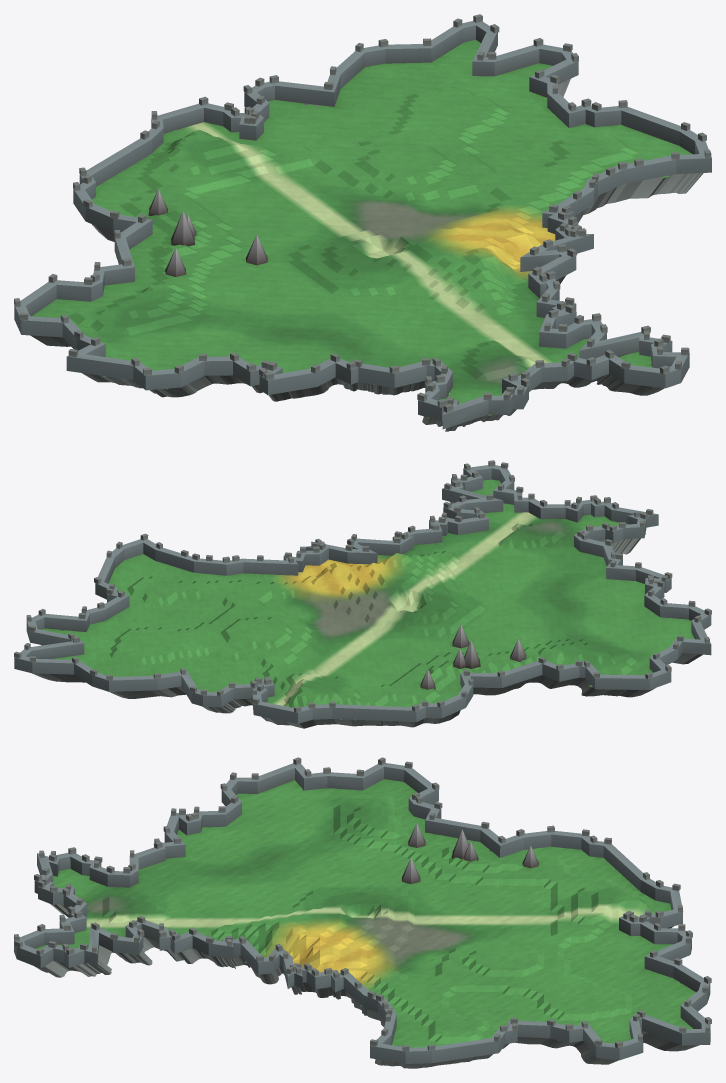
3 views of the same model, one above another, from view 1: azimuth 30°, elevation 25°; view 2: azimuth 150°, elevation 25°; view 3: azimuth 270°, elevation 25° (orthographic). The views are drawn at different scales.
Parts seen in each view (by area): view 1: ground_c64a02f0; view 2: ground_c64a02f0; view 3: ground_c64a02f0.
Part boxes in pixels (bbox=[...]): ground_c64a02f0: bbox=[14, 14, 711, 431]; ground_c64a02f0: bbox=[14, 460, 711, 728]; ground_c64a02f0: bbox=[14, 757, 711, 1068].
Bounding box in the file's own units: 152 × 11.5 × 154.
2 materials, 1 textured.
